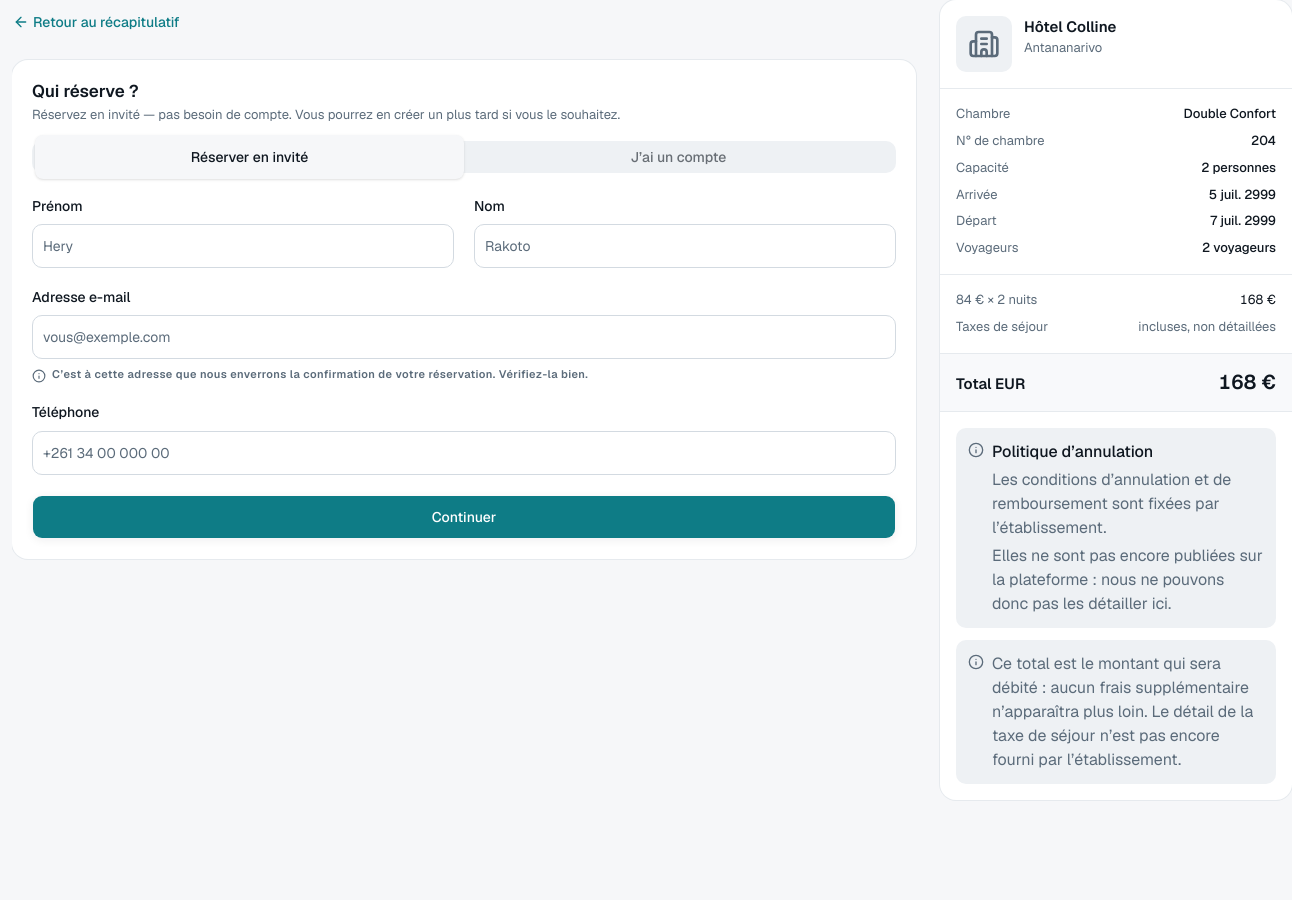
BookingIdentify (intégration — story 2.3) › n’émet aucun appel tant que la saisie est invalide (validation i18n)
Expected: the form with test id "guest-form" is shown, [32,197,896,539]
Click the button with test id "guest-submit".
click(464, 517)  # box [32,495,896,539]
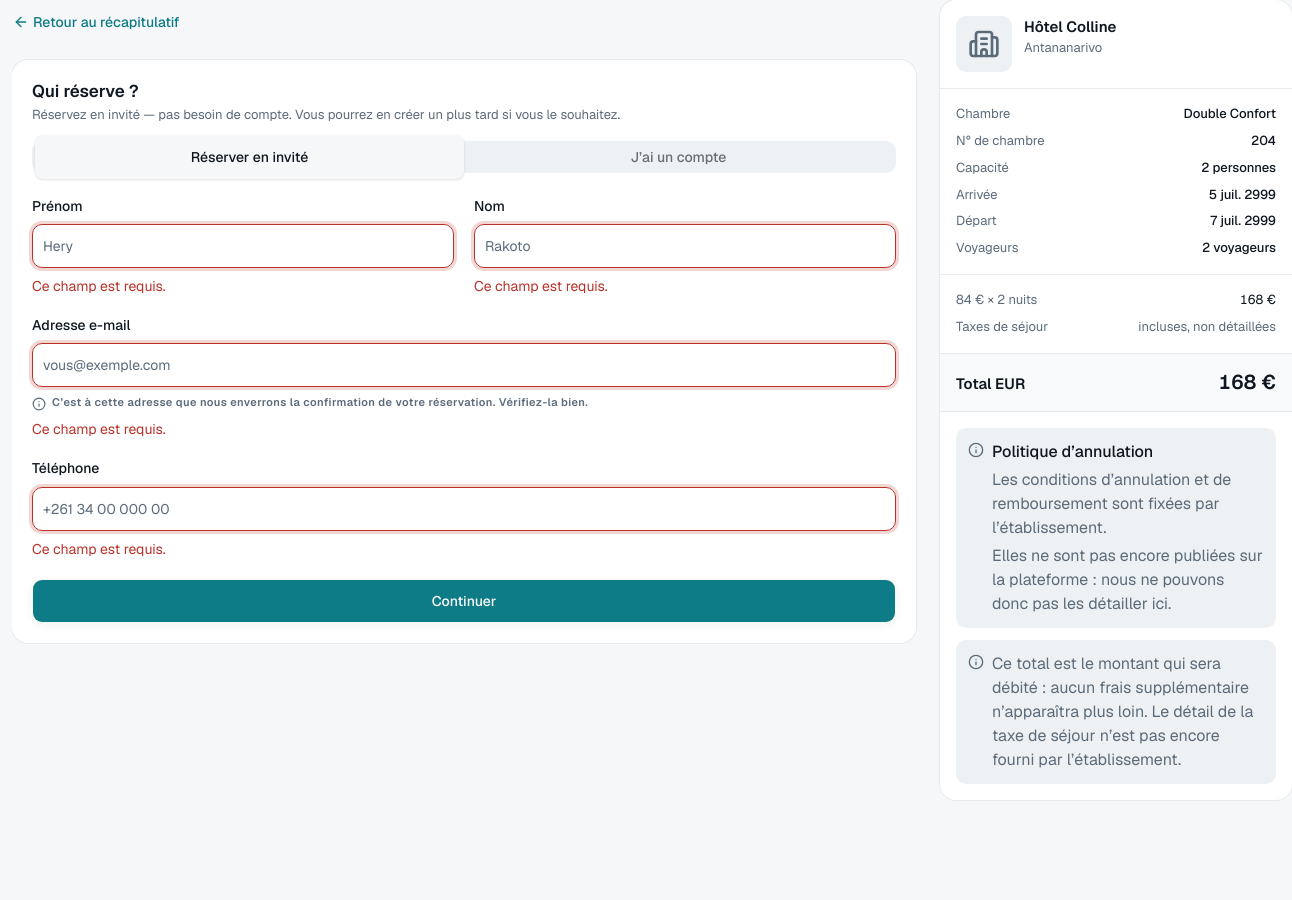
Result: the text "Ce champ est requis." below "Prénom" is shown at [32,277,166,295]
